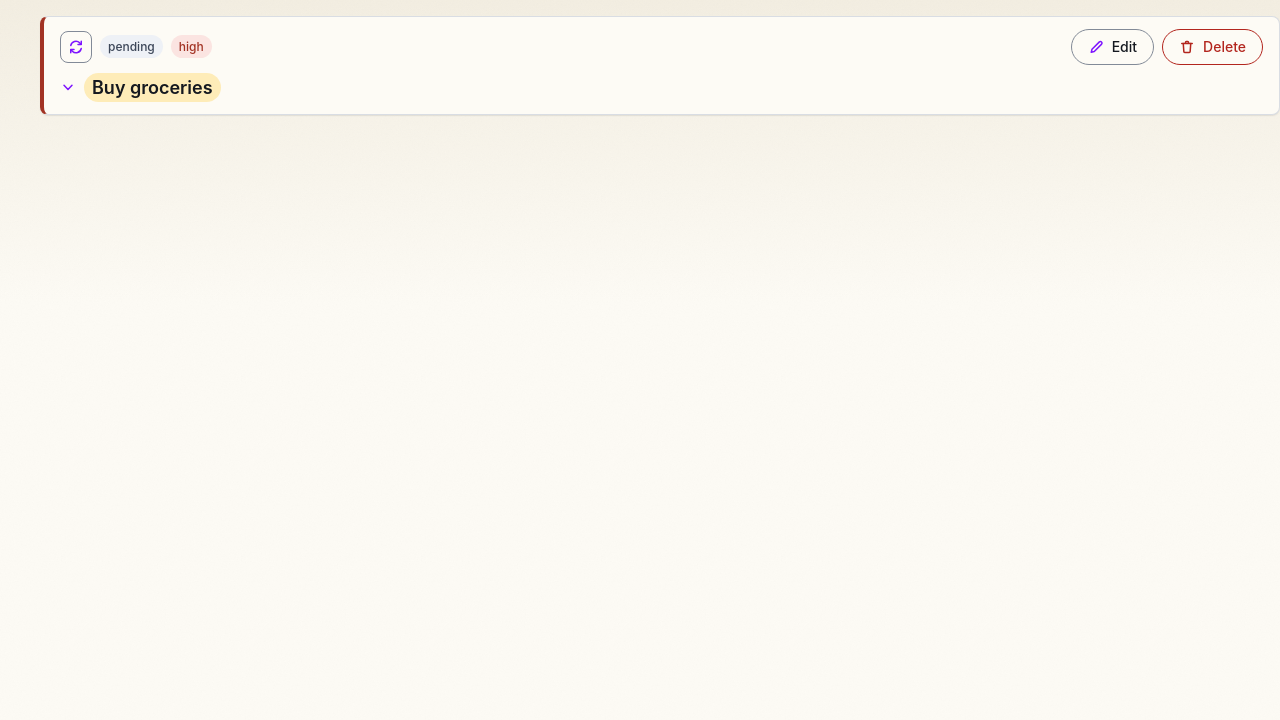
Test: TaskItem › Cancel in the confirm dialog closes it without deleting
Click the button "Delete" at x=1213, y=47, box [1162,29,1263,64]
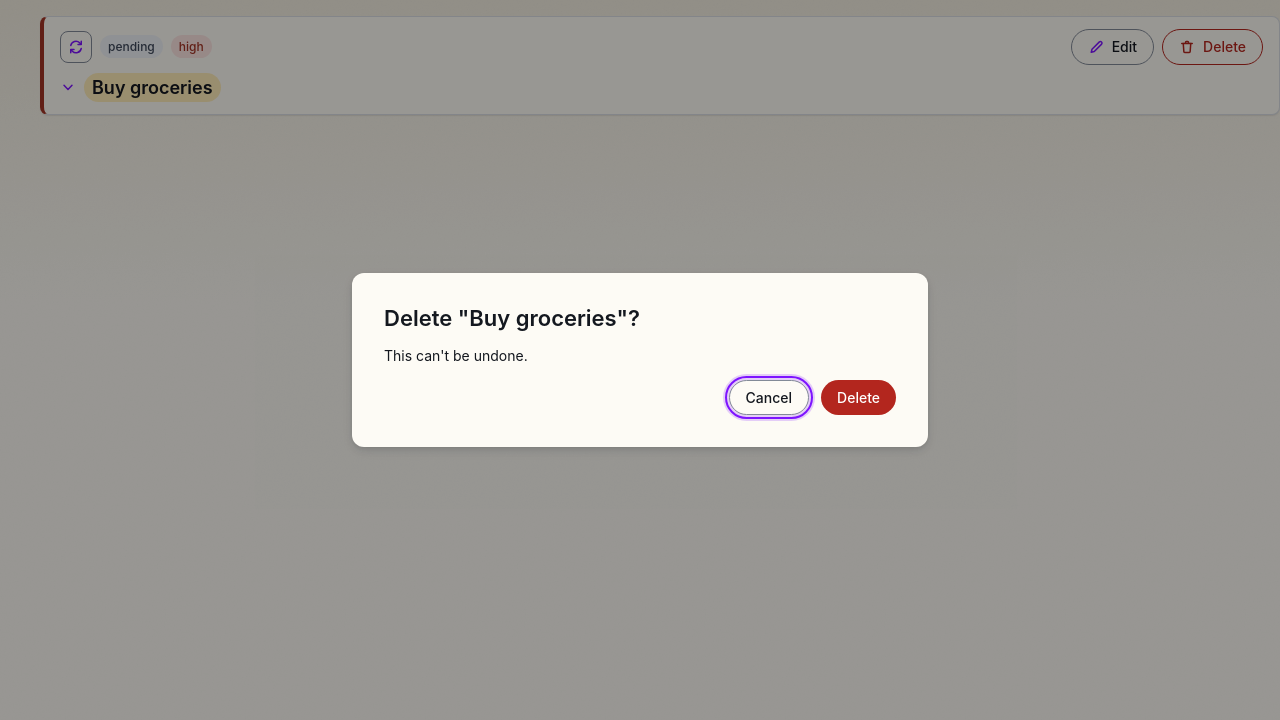
Click the button "Cancel" at x=769, y=398, box [729,380,809,415]
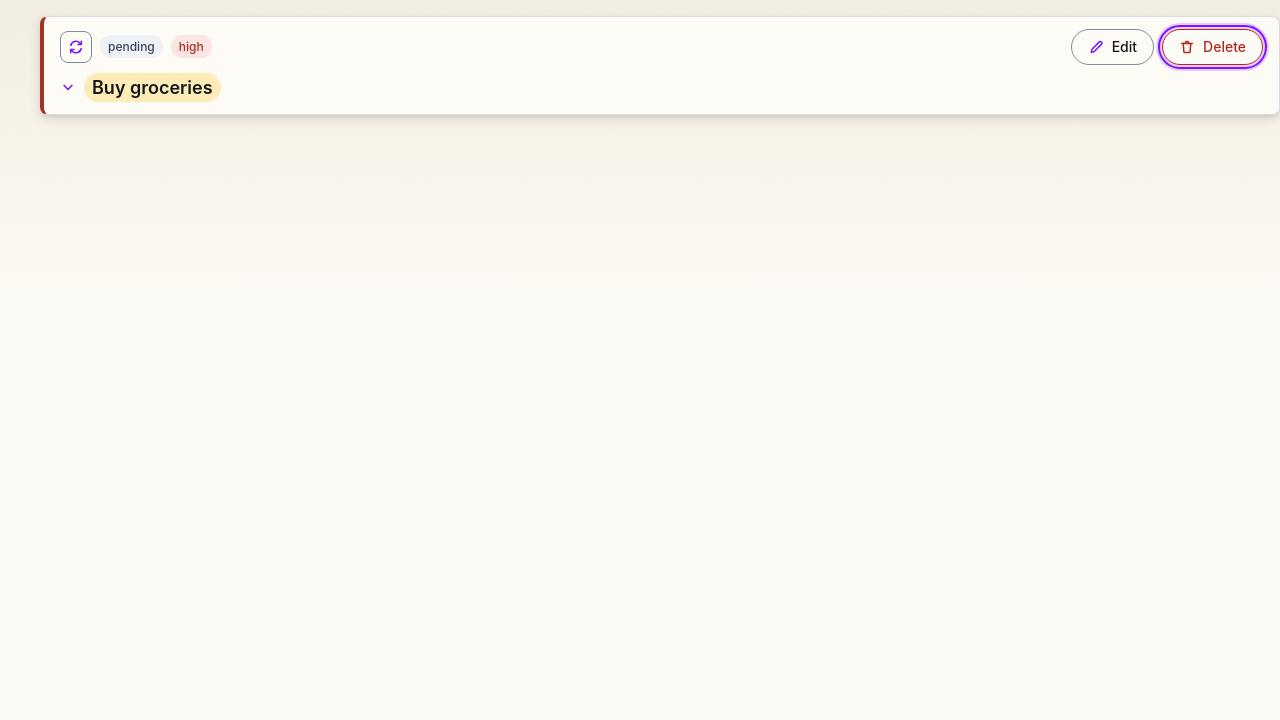
Result: the dialog is gone
